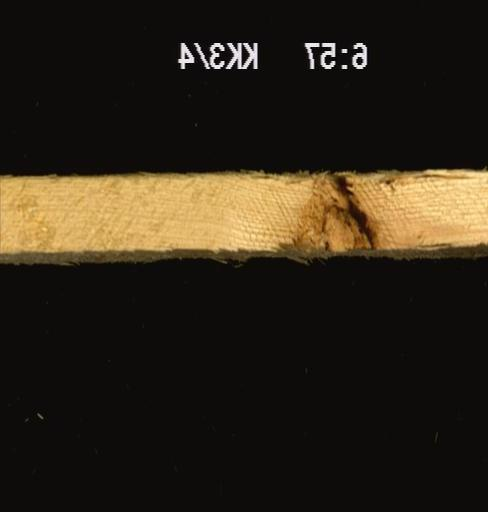edge_knot: (283, 174, 377, 254)
